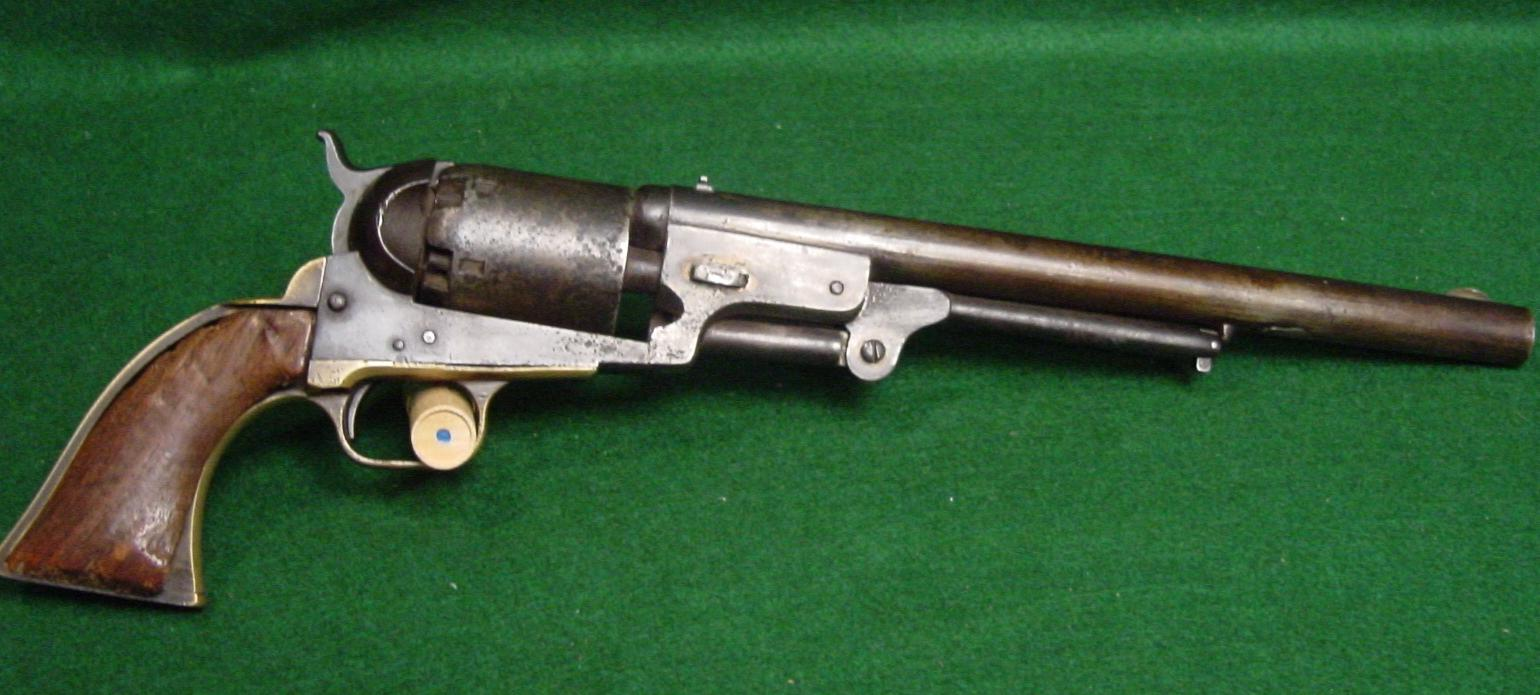gun: (0, 1, 1540, 695)
